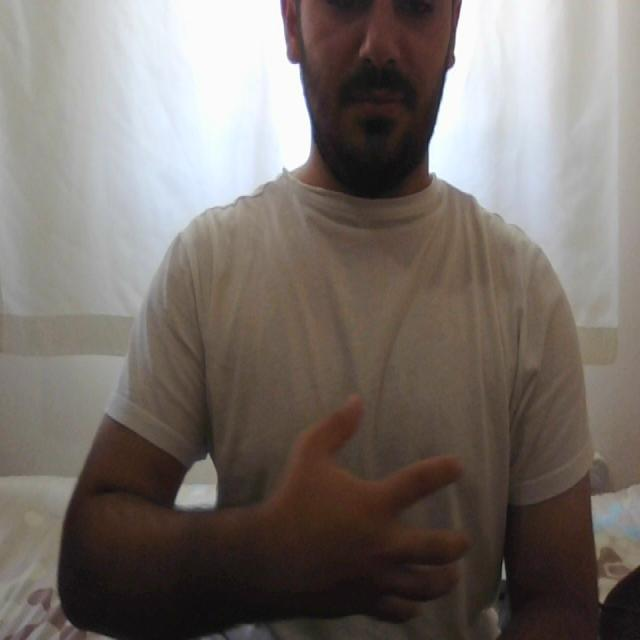Anne: (195, 374, 538, 640)
